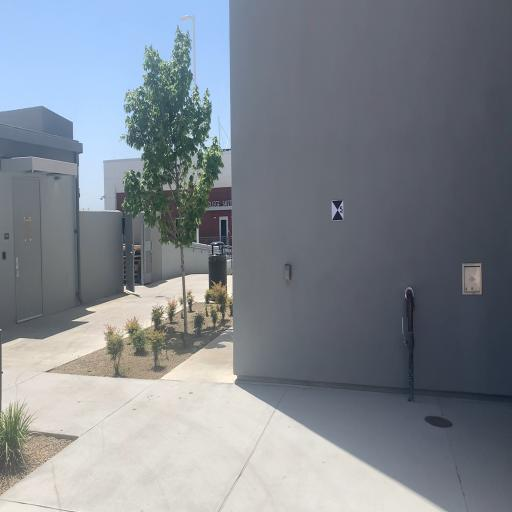target5: (331, 200, 344, 222)
